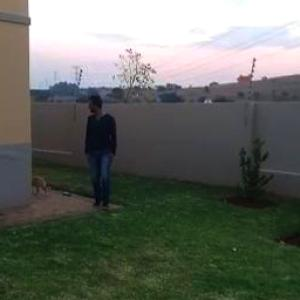follow: (81, 90, 122, 216)
